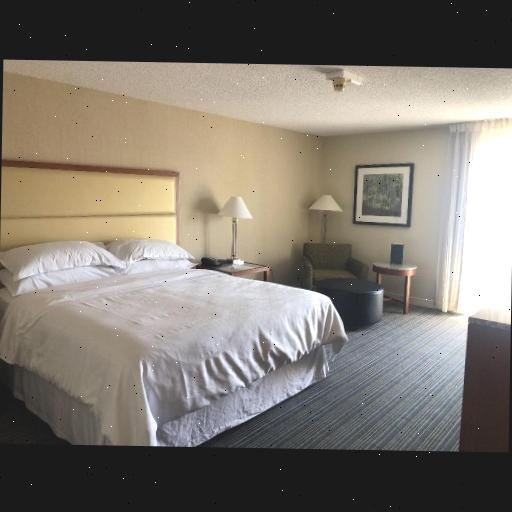chair: (300, 238, 376, 286)
clean_bed: (0, 162, 330, 451)
clean_floor: (189, 307, 470, 450)
lamp: (219, 188, 253, 268), (310, 188, 343, 248)
organised_pillow: (2, 238, 201, 298)
organized table: (322, 280, 394, 330)
